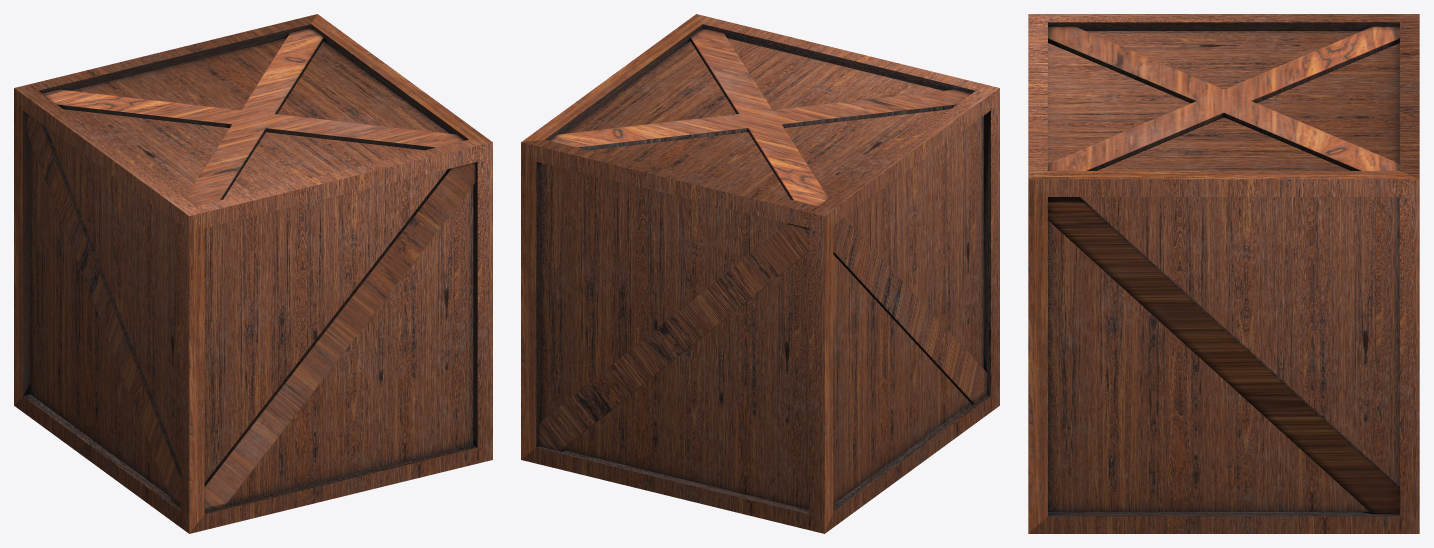
Rendered from DropBox.fbx.
3 renders of one model, left to right at view 1: azimuth 30°, elevation 25°; view 2: azimuth 150°, elevation 25°; view 3: azimuth 270°, elevation 25°, orthographic. The views are drawn at different scales.
Parts seen in each view (by area): view 1: DropBox; view 2: DropBox; view 3: DropBox.
Part boxes in pixels (<box>): DropBox: <box>14,14,492,533</box>; DropBox: <box>521,14,999,533</box>; DropBox: <box>1028,14,1419,533</box>.
Size of the model in its own units: 200 by 200 by 200.
